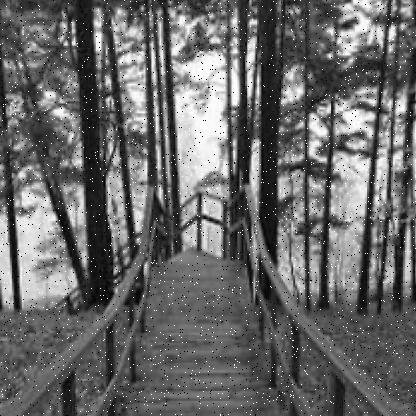stair_up: (113, 252, 307, 416)
